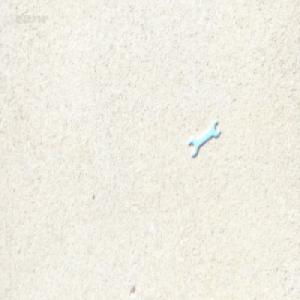Wrench: (189, 122, 220, 157)
